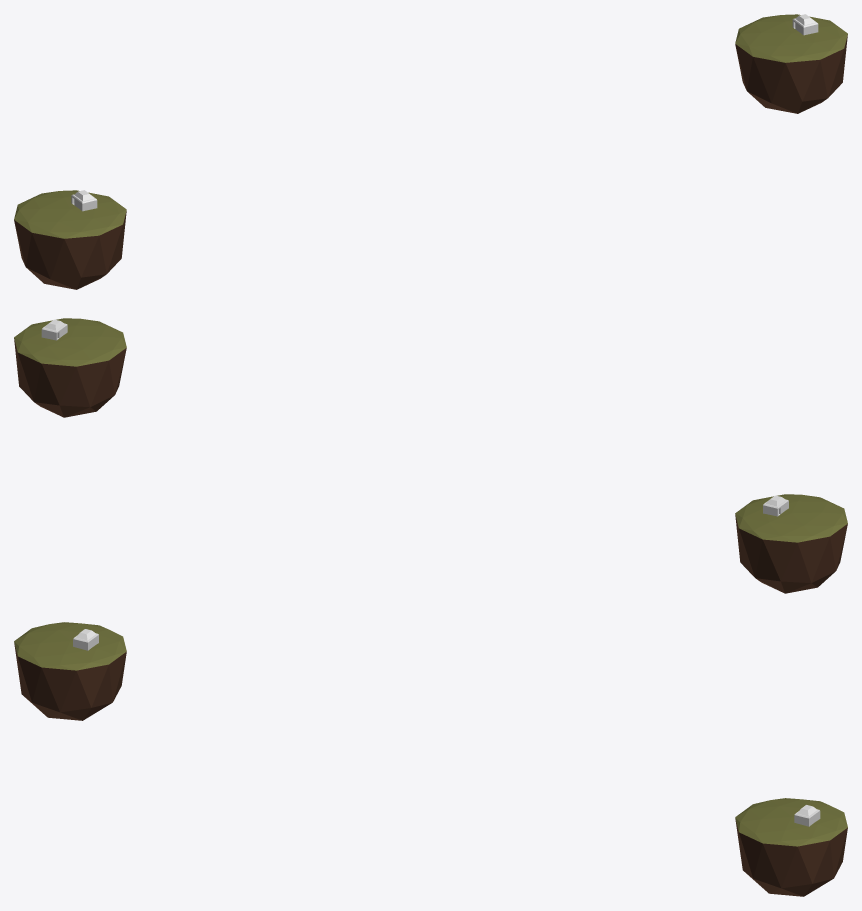
The model's file is Level2_unf.fbx.
3 views of the same model, one above another, from view 1: azimuth 30°, elevation 25°; view 2: azimuth 150°, elevation 25°; view 3: azimuth 330°, elevation 25° (orthographic).
Visible parts, largest first — view 1: Past_floor, Future_Floor; view 2: Future_Floor, Past_floor; view 3: Future_Floor, Past_floor.
Boxes of the visible parts, x1,y1,x2,y2 form: Past_floor: (14, 190, 126, 289); Future_Floor: (735, 14, 847, 113); Future_Floor: (14, 318, 126, 417); Past_floor: (735, 494, 847, 593); Future_Floor: (735, 798, 847, 896); Past_floor: (14, 622, 126, 720).
Bounding box in the file's own units: 283 × 29.2 × 34.64.
